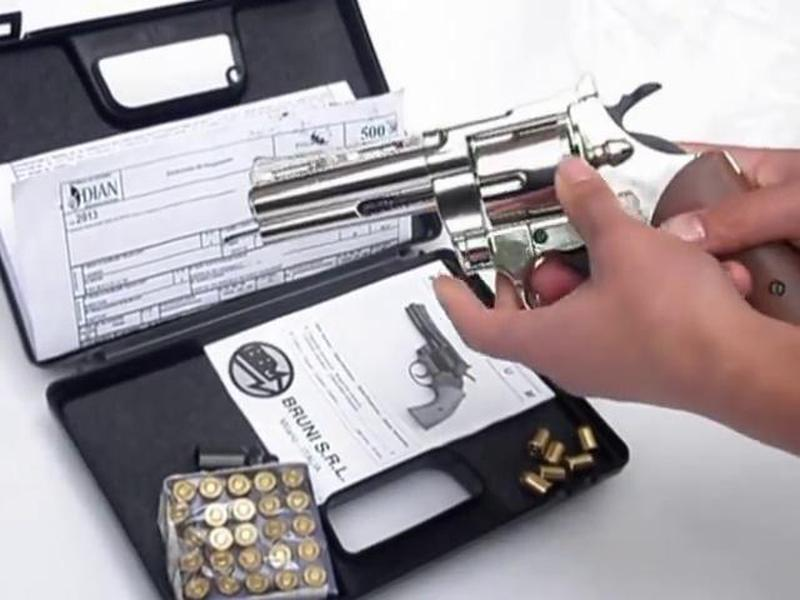Revolver: (243, 44, 800, 359)
